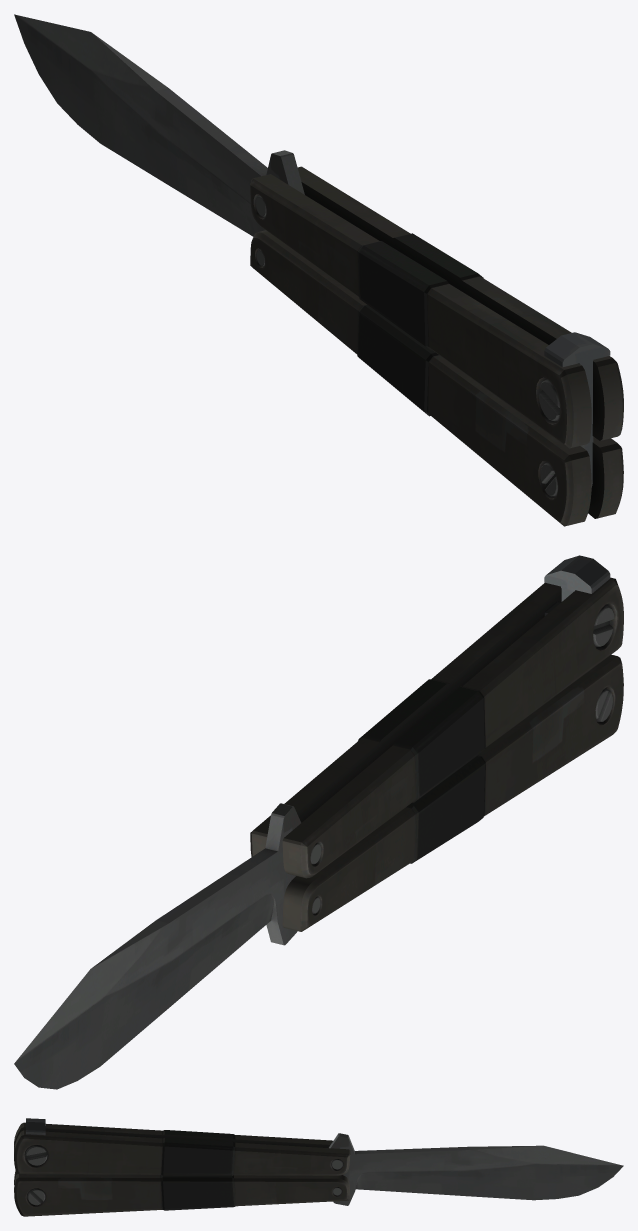
Rendered from c_knife.glb.
The picture shows the model from 3 angles, top to bottom: view 1: azimuth 30°, elevation 25°; view 2: azimuth 150°, elevation 25°; view 3: azimuth 270°, elevation 25°; orthographic projection. The views are drawn at different scales.
Parts seen in each view (by area): view 1: c_knife; view 2: c_knife; view 3: c_knife.
Part boxes in pixels (left/top/right/bottom): c_knife: left=14, top=14, right=623, bottom=526; c_knife: left=14, top=555, right=623, bottom=1089; c_knife: left=14, top=1118, right=623, bottom=1216.
Size of the model in its own units: 0.8427 by 2.35 by 14.34.
1 material, 1 textured.
